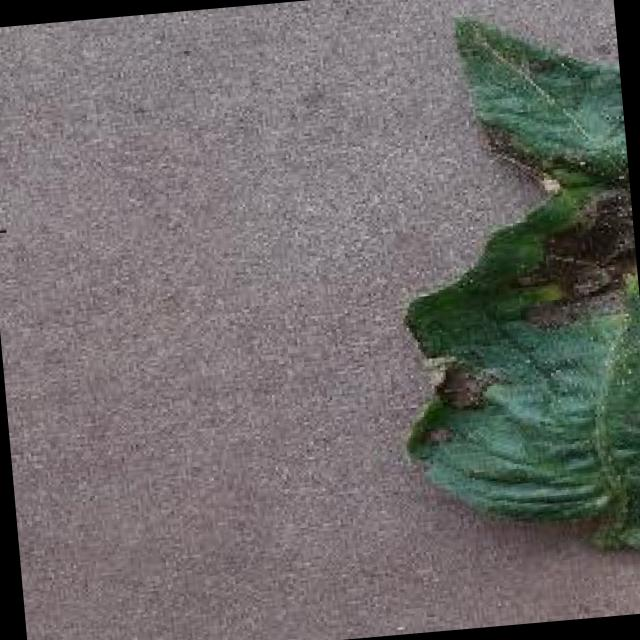Tomato_Early_Blight: (390, 99, 640, 446)
